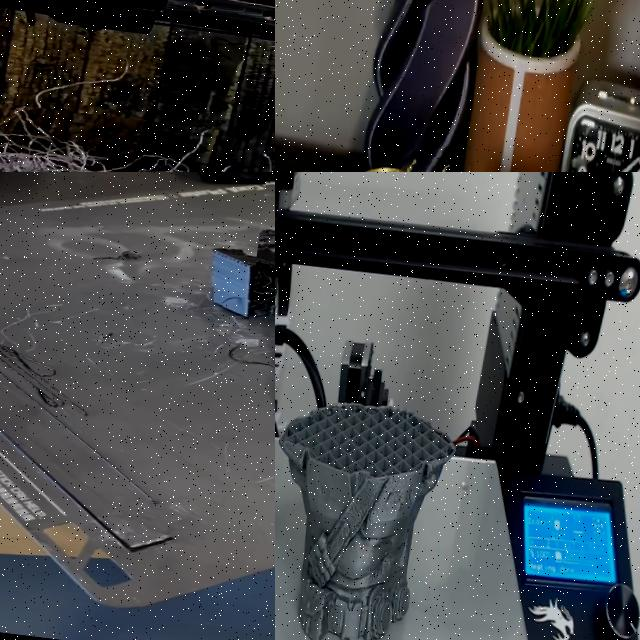spaghetti: (0, 73, 243, 172), (403, 141, 458, 172)
